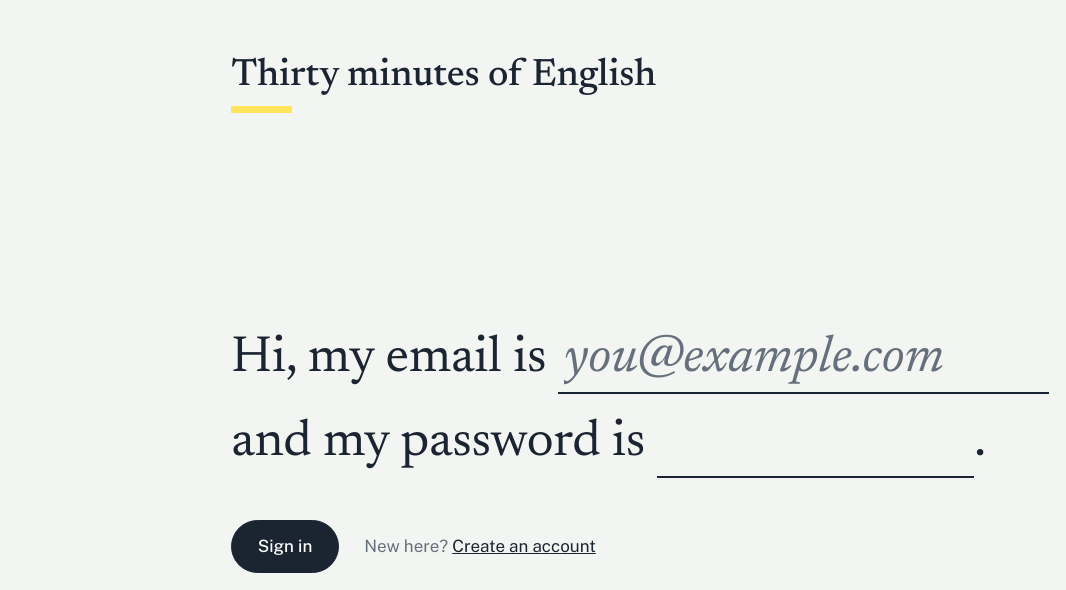
Test: a page behind the login sends you there and back again
In the field named "Email": (803, 361) top-left (558, 328), bottom-right (1049, 394), type "mina@example.com"
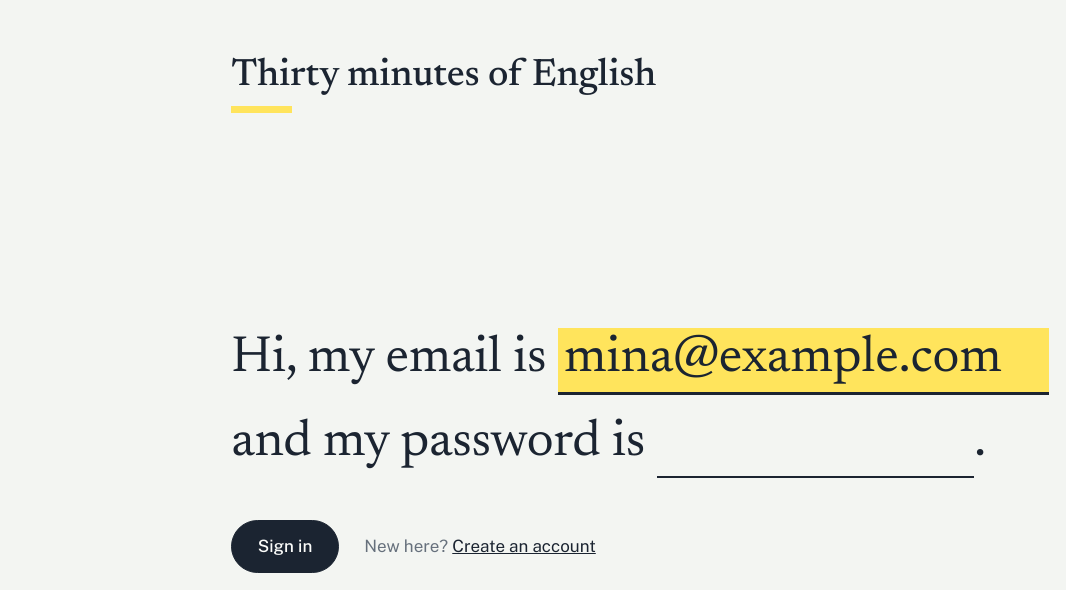
In the password field named "Password": (815, 445) top-left (656, 412), bottom-right (974, 478), type "12345678"
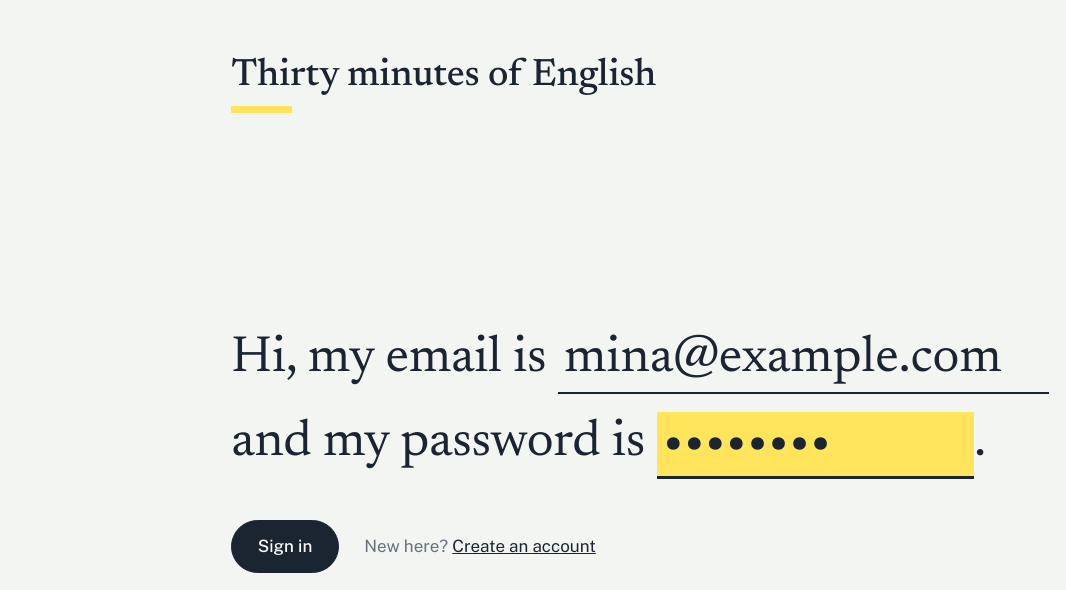
Click the button "Sign in": (285, 546) top-left (231, 520), bottom-right (339, 573)
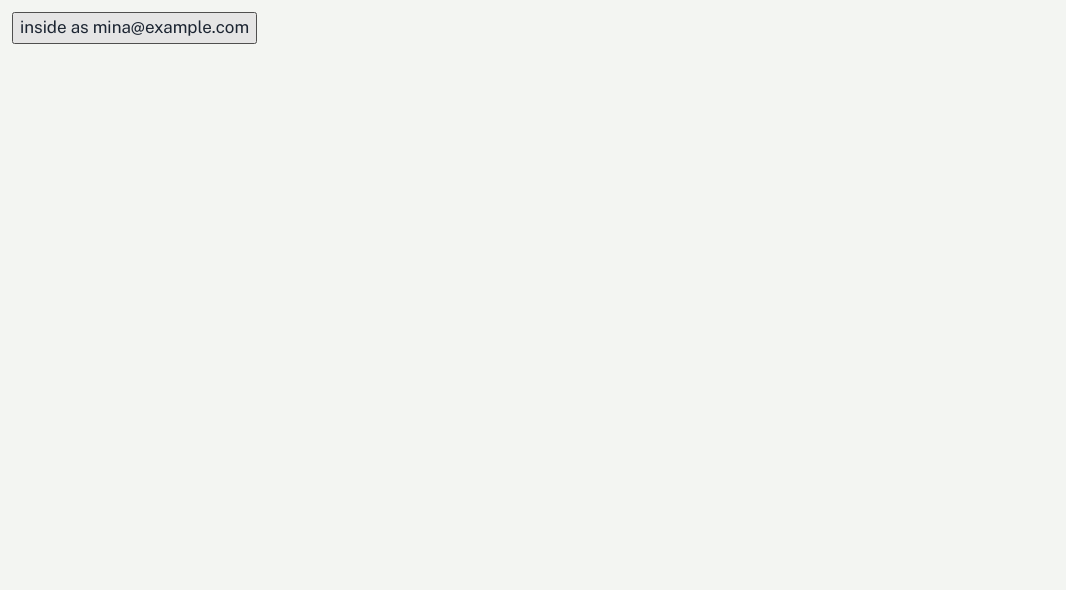
expect the button "inside as mina@example.com" is shown: met, box top-left (12, 12), bottom-right (257, 44)
